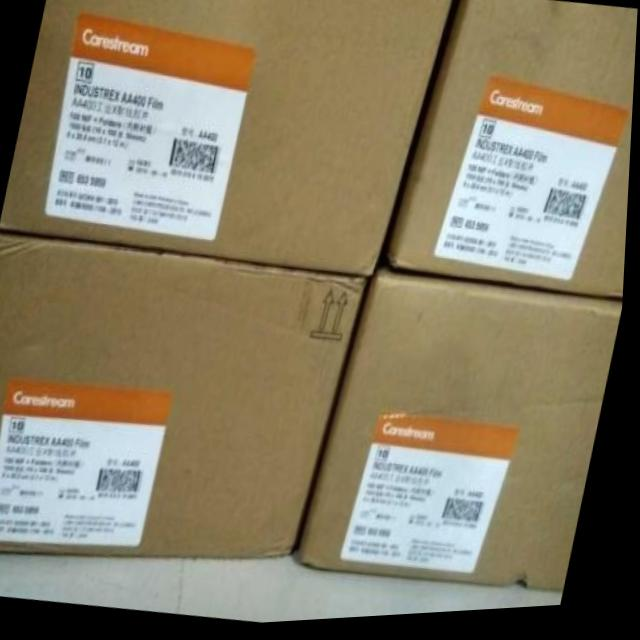box: (1, 0, 455, 280), (0, 231, 373, 561), (300, 263, 626, 602), (386, 0, 638, 307)
